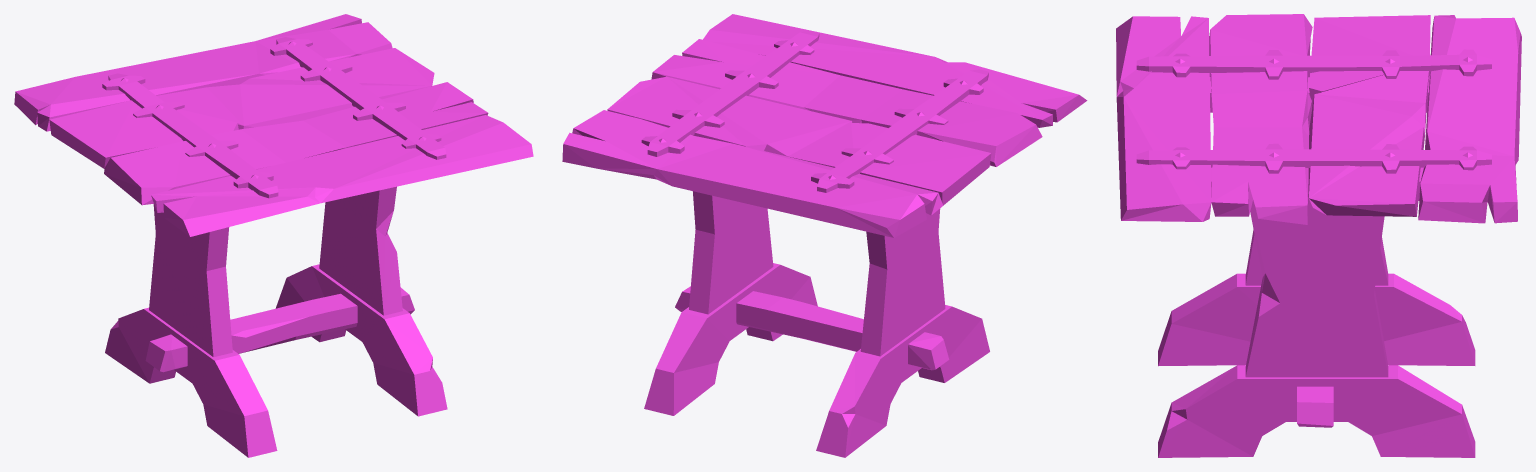
File: SM_Table_Rough_Square_B_Fantasy.fbx
3 views of the same model, side by side, from view 1: azimuth 30°, elevation 25°; view 2: azimuth 150°, elevation 25°; view 3: azimuth 270°, elevation 25° (orthographic). The views are drawn at different scales.
Visible parts, largest first — view 1: SM_Table_Rough_Square_B_Fantasy; view 2: SM_Table_Rough_Square_B_Fantasy; view 3: SM_Table_Rough_Square_B_Fantasy.
Part boxes in pixels (<box>): SM_Table_Rough_Square_B_Fantasy: <box>14,14,533,457</box>; SM_Table_Rough_Square_B_Fantasy: <box>562,14,1087,457</box>; SM_Table_Rough_Square_B_Fantasy: <box>1116,14,1521,457</box>.
Bounding box in the file's own units: 1.1 × 0.8184 × 0.9957.
